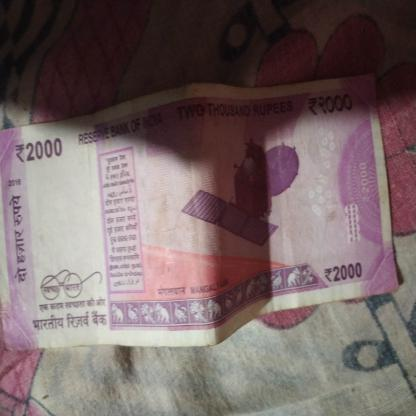New2000Back: (0, 95, 399, 346)
